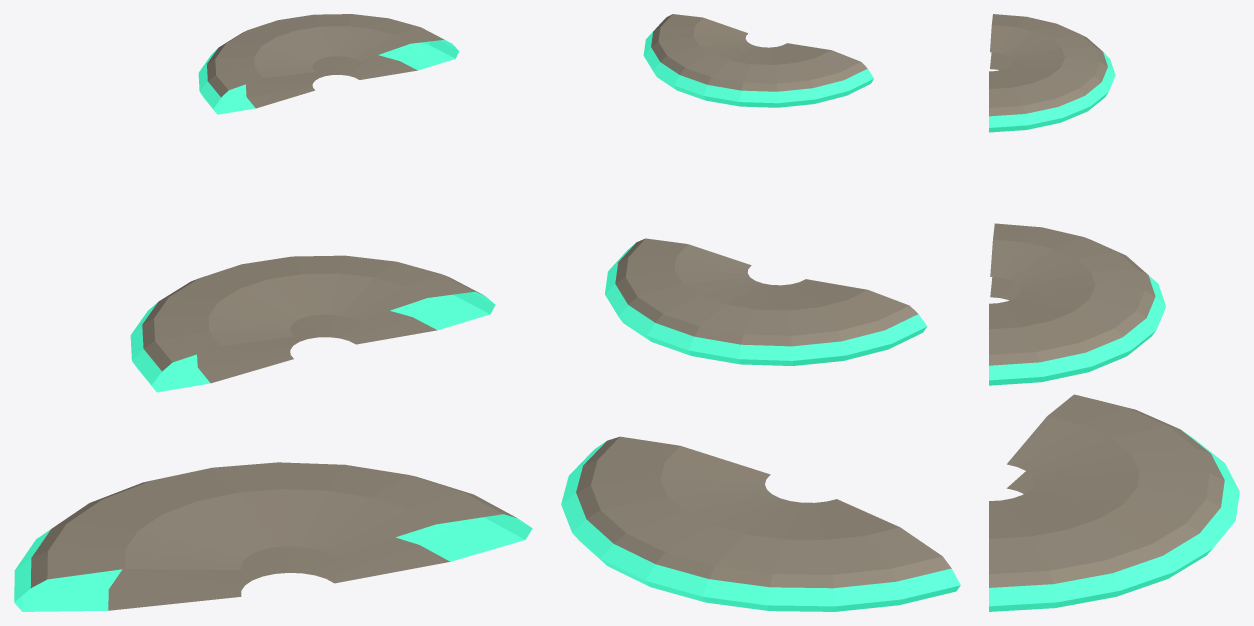
File: shelf_v01.glb
The picture shows the model from 3 angles, left to right: view 1: azimuth 30°, elevation 25°; view 2: azimuth 150°, elevation 25°; view 3: azimuth 270°, elevation 25°; orthographic projection. The views are drawn at different scales.
Visible parts, largest first — view 1: mushroom_shelf_flesh_nocol, mushroom_shelf_glow_nocol; view 2: mushroom_shelf_flesh_nocol, mushroom_shelf_glow_nocol; view 3: mushroom_shelf_flesh_nocol, mushroom_shelf_glow_nocol.
Part boxes in pixels (box(x1,y1,x2,y2)): mushroom_shelf_flesh_nocol: box(30, 14, 516, 610); mushroom_shelf_glow_nocol: box(14, 39, 532, 611); mushroom_shelf_flesh_nocol: box(576, 14, 951, 588); mushroom_shelf_glow_nocol: box(561, 21, 960, 611); mushroom_shelf_flesh_nocol: box(989, 14, 1224, 587); mushroom_shelf_glow_nocol: box(989, 52, 1239, 611).
Size of the model in its own units: 1.51 by 1.64 by 0.7848.
